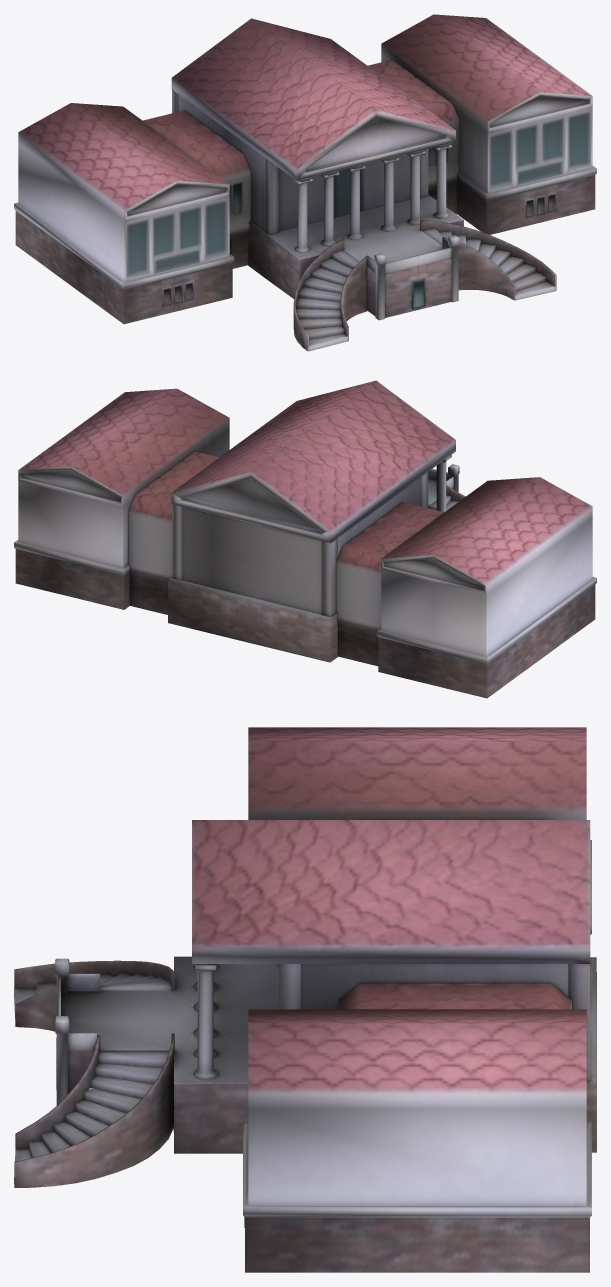
File: Library.glb
3 renders of one model, top to bottom at view 1: azimuth 30°, elevation 25°; view 2: azimuth 150°, elevation 25°; view 3: azimuth 270°, elevation 25°, orthographic. The views are drawn at different scales.
Parts seen in each view (by area): view 1: low; view 2: low; view 3: low.
Boxes of the visible parts, left/top/right/bottom form: low: left=14, top=14, right=596, bottom=351; low: left=14, top=380, right=596, bottom=698; low: left=14, top=727, right=596, bottom=1272.
Size of the model in its own units: 6.17 by 2.12 by 4.13.
Materials: 1 (1 with a texture image).
